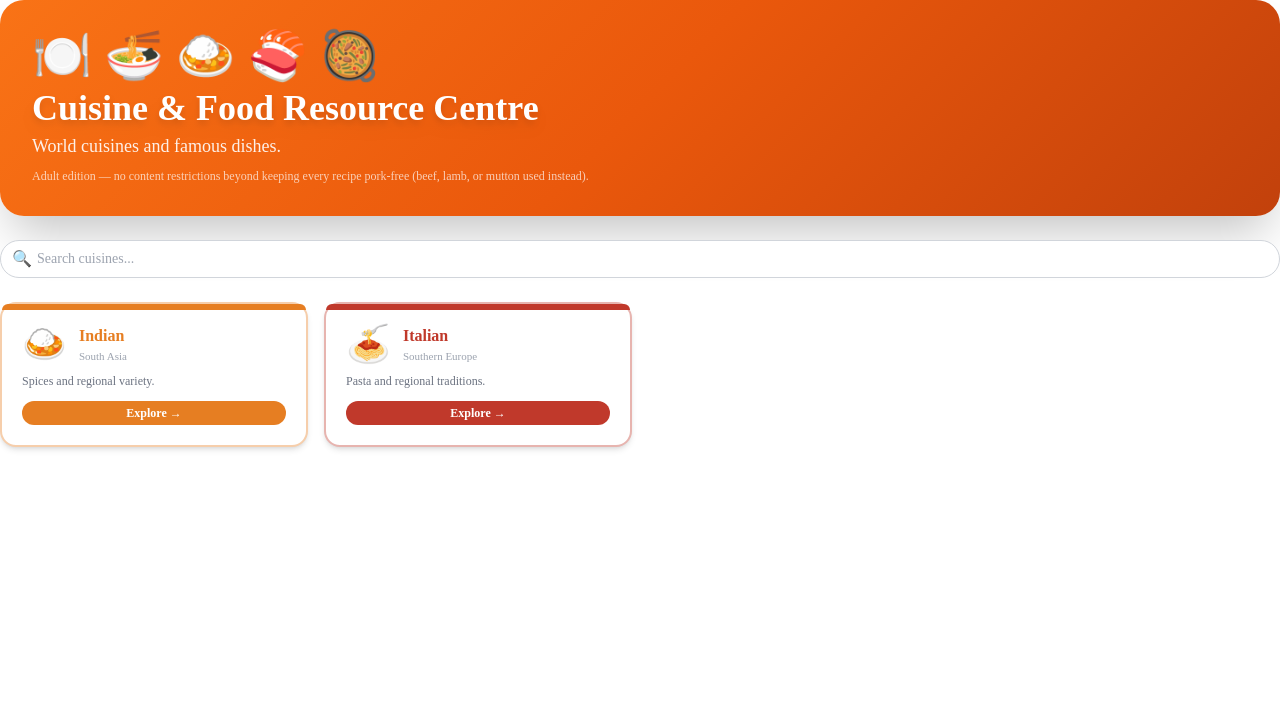
Test case: CuisineCentre › lists cuisines and drills into a detail page
Expected: the text "Italian" is shown, [403,327,448,344]
Click the text "Indian" at (102, 336), box [79,327,124,344]
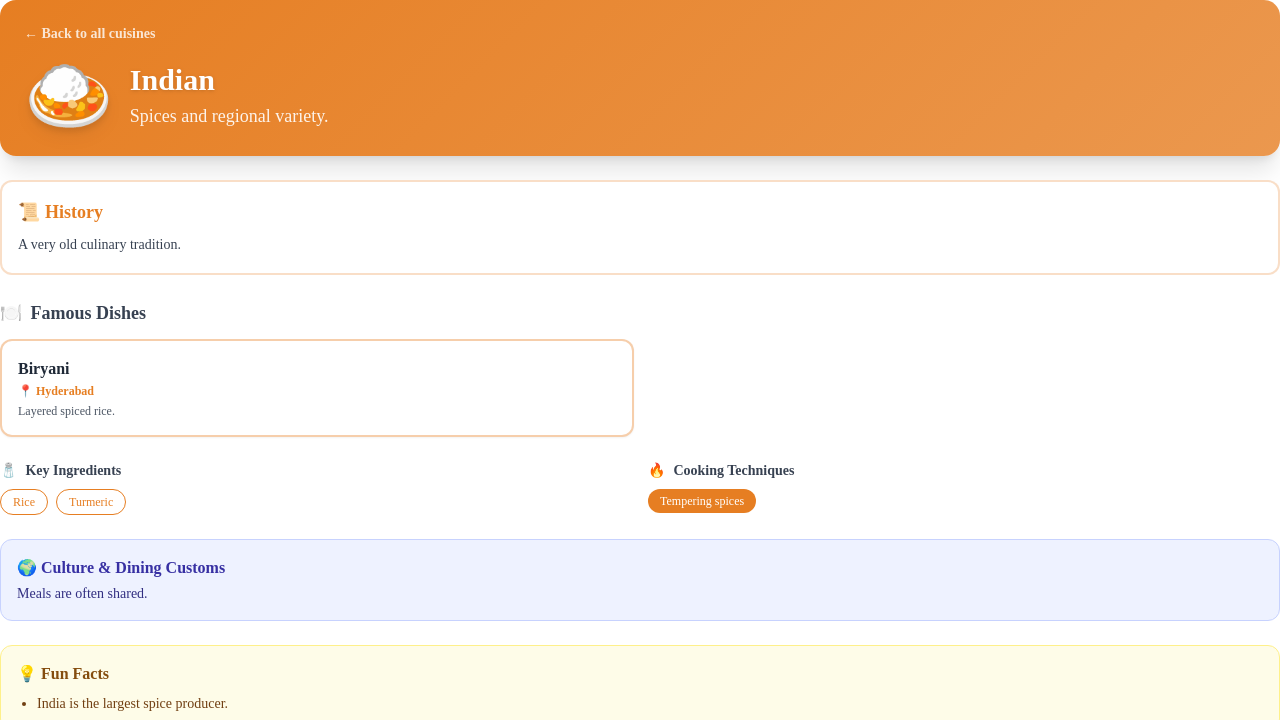
Result: the text "Biryani" is shown at [18,360,70,377]
Result: the text "A very old culinary tradition." is shown at [18,237,181,252]
Result: the button "← Back to all cuisines" is shown at [24,24,156,44]
